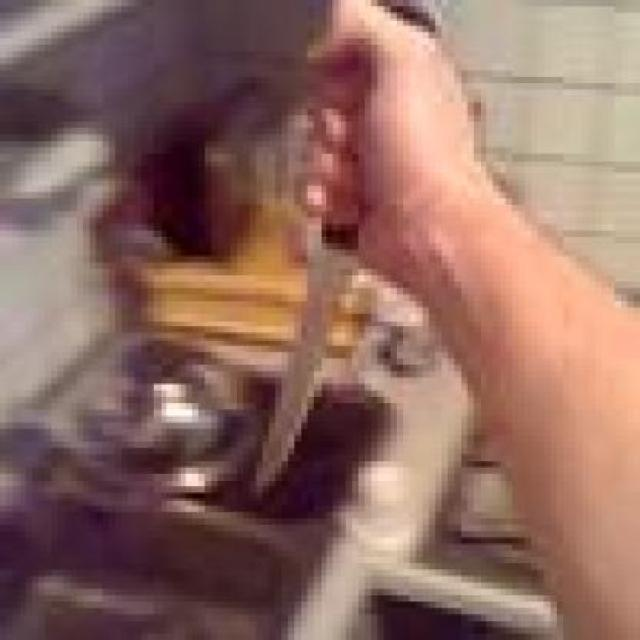knife: (253, 1, 445, 488)
